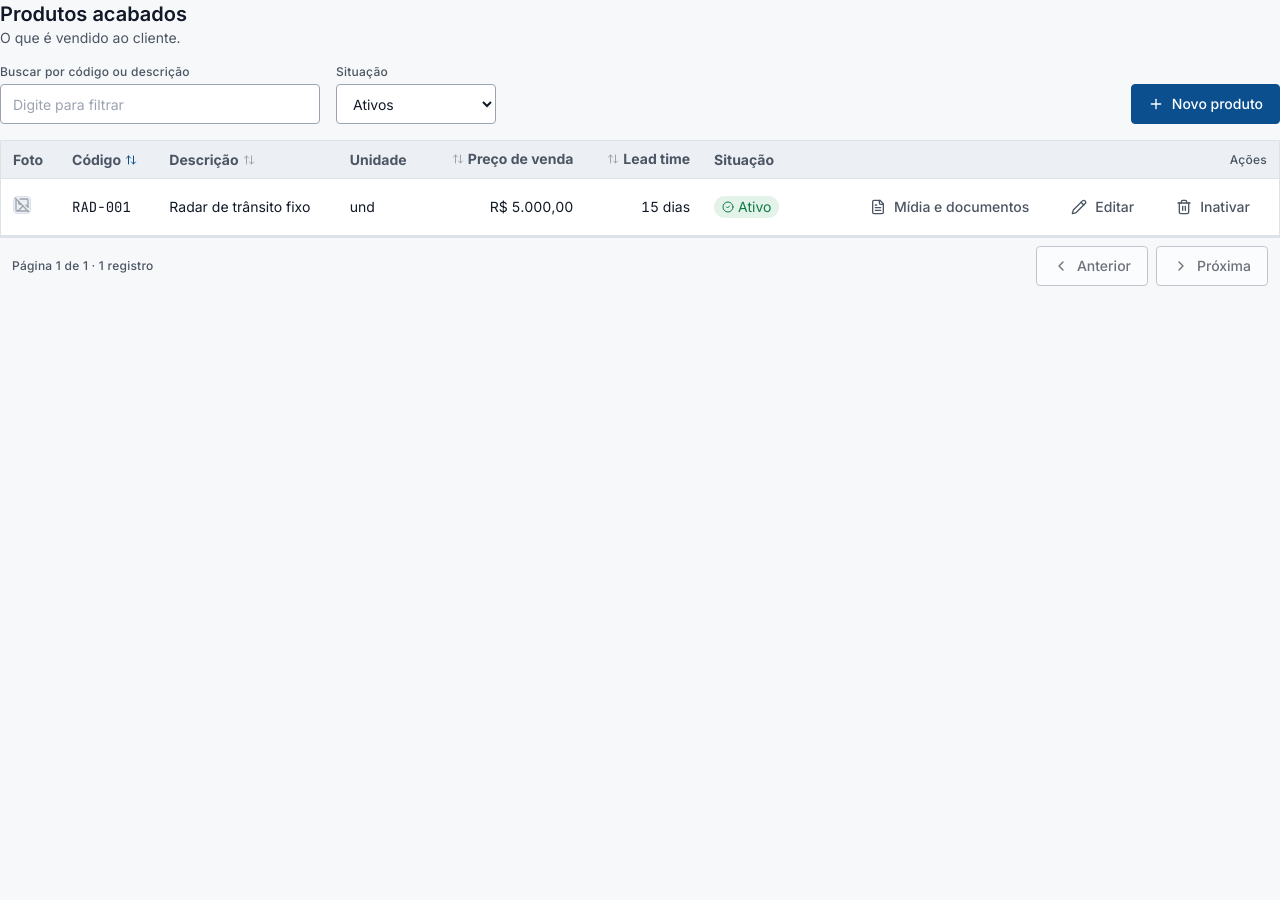
Test: ProdutosAcabados › editar abre o modal preenchido
The width and height of the screenshot is (1280, 900).
Expected: the text "R$ 5.000,00" is shown, x1=426 y1=178 x2=585 y2=236
Click the button with aria-label "Editar RAD-001" at (1103, 207), box x1=1054 y1=187 x2=1151 y2=227
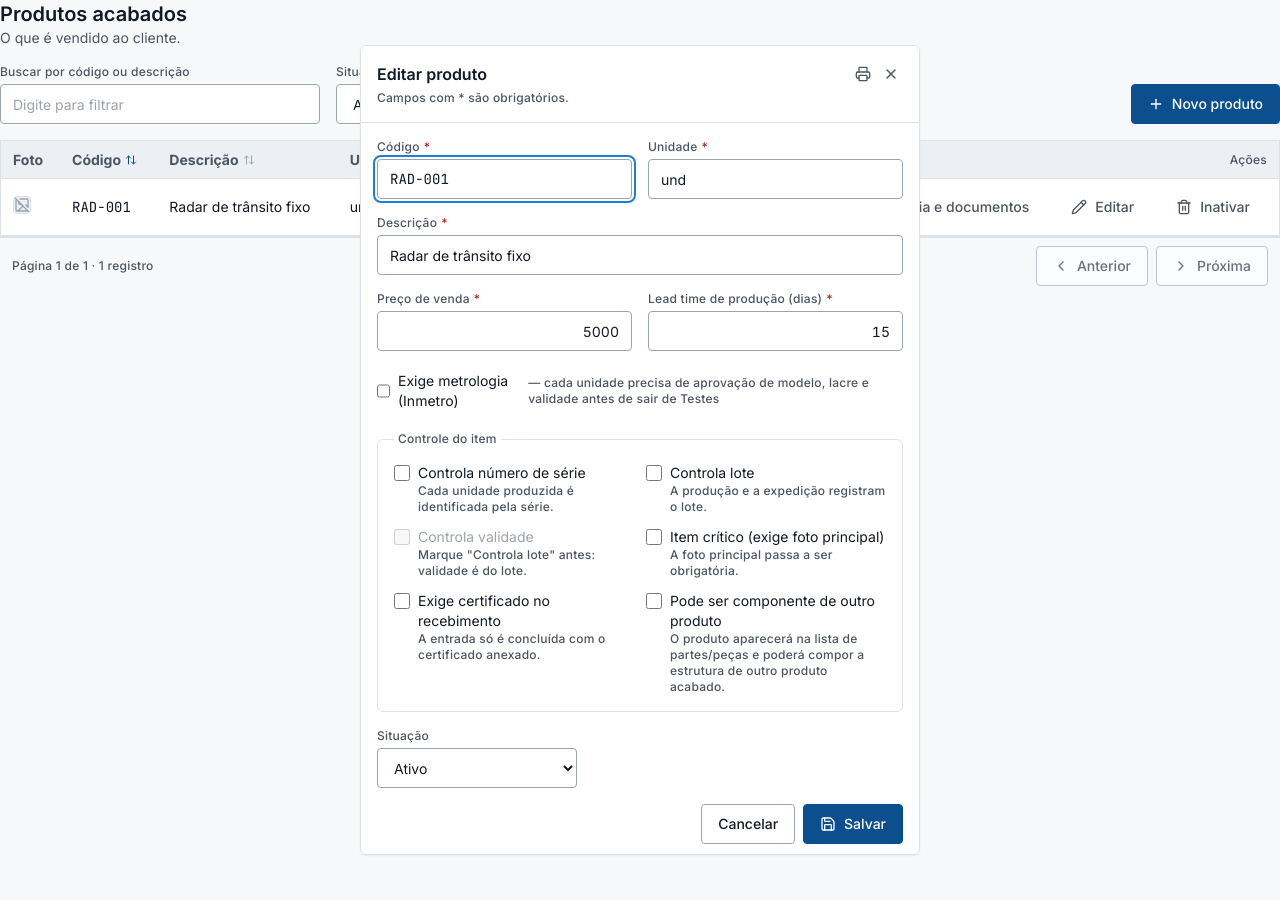
Expected: the field labelled "Código*" holds "RAD-001", x1=377 y1=159 x2=632 y2=199
